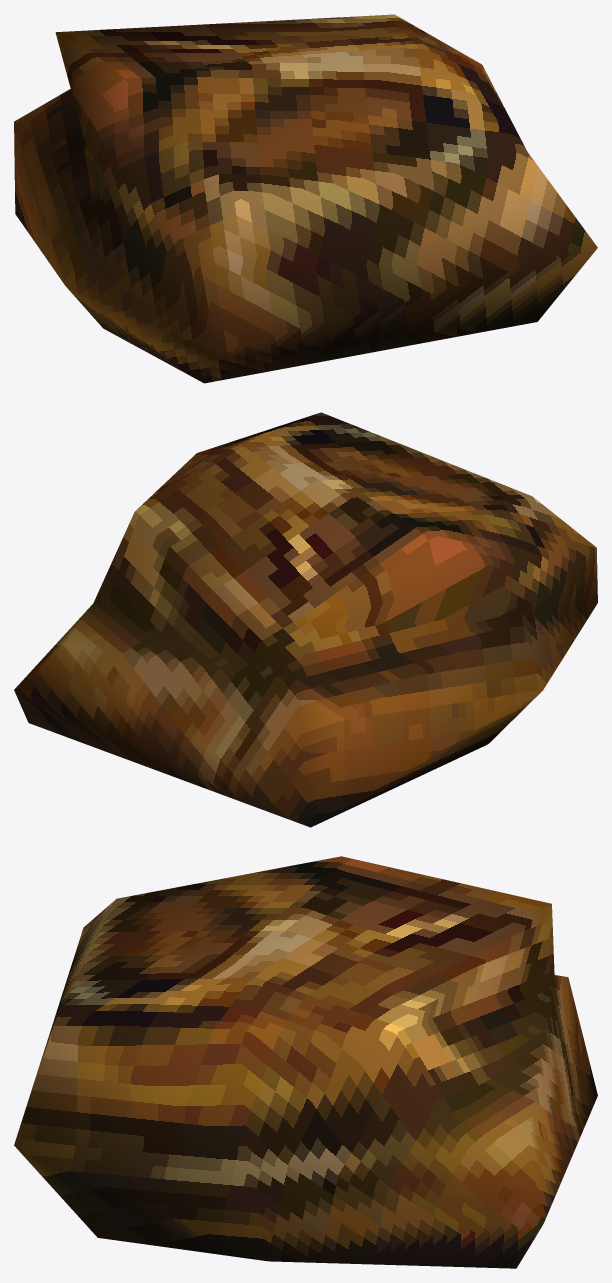
File: leatherpile_15b15f39.glb
3 renders of one model, top to bottom at view 1: azimuth 30°, elevation 25°; view 2: azimuth 150°, elevation 25°; view 3: azimuth 270°, elevation 25°, orthographic. The views are drawn at different scales.
Bounding box in the file's own units: 0.5436 × 0.2689 × 0.5968.
1 material, 1 textured.
